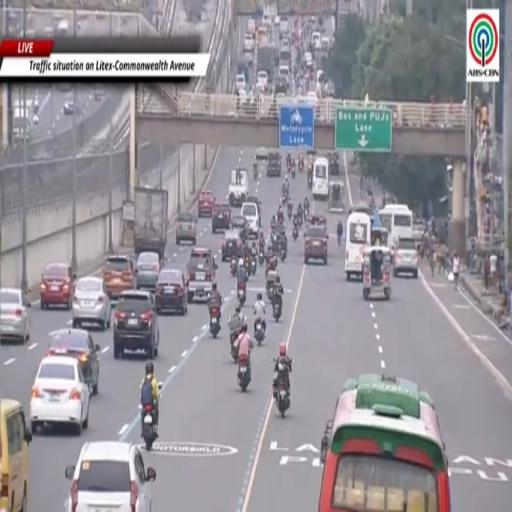bus: (319, 375, 450, 511), (345, 213, 371, 280), (379, 204, 413, 249), (312, 157, 329, 200), (349, 203, 374, 217)
car: (65, 441, 155, 511), (30, 356, 90, 435), (0, 398, 32, 510), (47, 328, 100, 394), (114, 291, 159, 359), (72, 276, 111, 330), (0, 288, 30, 343), (40, 263, 75, 310), (187, 248, 217, 302), (155, 268, 187, 315), (103, 255, 134, 298), (393, 237, 419, 278), (135, 252, 160, 291), (304, 226, 328, 264), (176, 212, 196, 245), (222, 230, 242, 261), (241, 202, 259, 236), (212, 202, 230, 234), (231, 215, 248, 243), (246, 196, 261, 227), (198, 190, 214, 217), (267, 152, 281, 177), (327, 152, 340, 175), (63, 99, 79, 115), (275, 77, 288, 94), (257, 71, 267, 90), (243, 34, 254, 51), (303, 51, 313, 68), (307, 91, 318, 106), (312, 31, 320, 50), (236, 74, 245, 90), (256, 147, 268, 159), (320, 37, 329, 52), (247, 20, 255, 35)
motorcycle: (276, 364, 290, 418), (142, 405, 157, 451), (143, 406, 157, 451), (238, 354, 252, 393), (210, 306, 220, 338), (230, 329, 239, 362), (255, 319, 264, 345), (272, 299, 282, 322), (266, 255, 278, 274), (237, 282, 246, 306), (231, 335, 238, 362), (258, 248, 265, 266), (245, 258, 251, 278), (231, 258, 237, 277), (279, 248, 287, 262), (292, 225, 299, 241), (251, 258, 257, 275), (287, 161, 292, 174), (288, 203, 292, 219), (298, 160, 303, 172), (308, 174, 312, 189), (278, 216, 284, 226), (304, 205, 309, 217), (282, 194, 287, 205), (298, 215, 302, 228), (292, 167, 296, 179), (254, 166, 257, 179)
truck: (134, 187, 168, 260), (256, 43, 278, 84), (228, 167, 248, 207)
